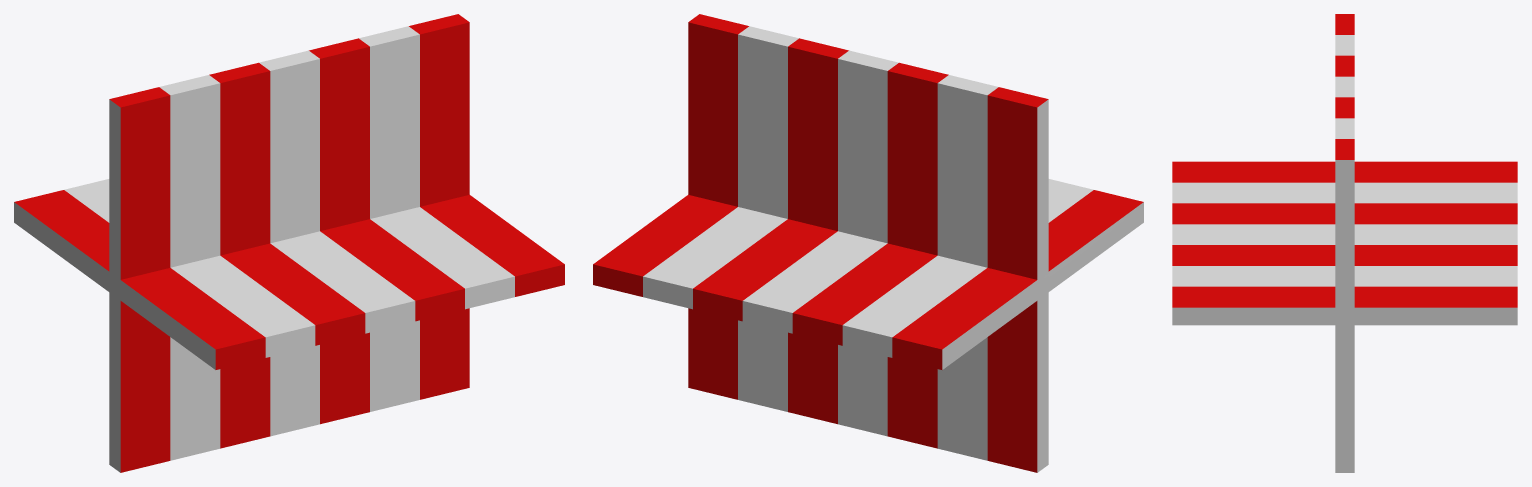
Rendered from rotatingplat.fbx.
3 renders of one model, left to right at view 1: azimuth 30°, elevation 25°; view 2: azimuth 150°, elevation 25°; view 3: azimuth 270°, elevation 25°, orthographic. The views are drawn at different scales.
Parts seen in each view (by area): view 1: pCube3; view 2: pCube3; view 3: pCube3.
Boxes of the visible parts, bbox=[...] form: pCube3: bbox=[14, 14, 564, 472]; pCube3: bbox=[593, 14, 1143, 472]; pCube3: bbox=[1172, 14, 1517, 472].
Bounding box in the file's own units: 172 × 172 × 172.
